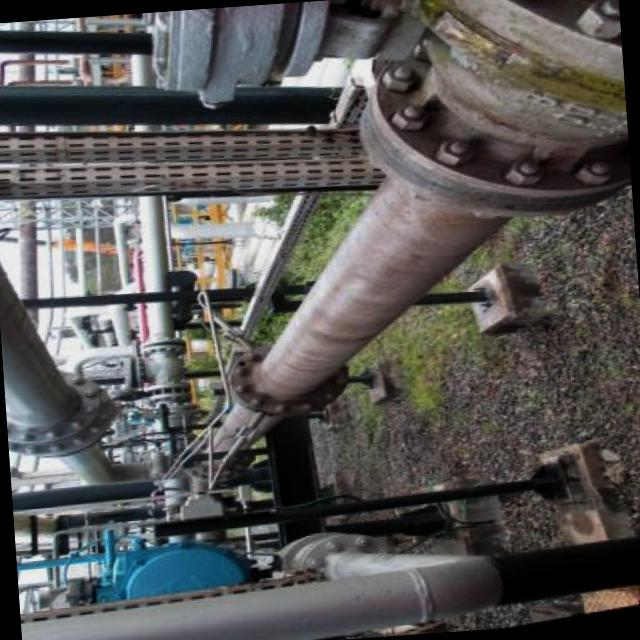gas: (190, 5, 623, 493), (20, 537, 640, 640), (0, 279, 156, 485), (138, 195, 189, 456), (284, 544, 485, 572), (15, 197, 37, 327)
